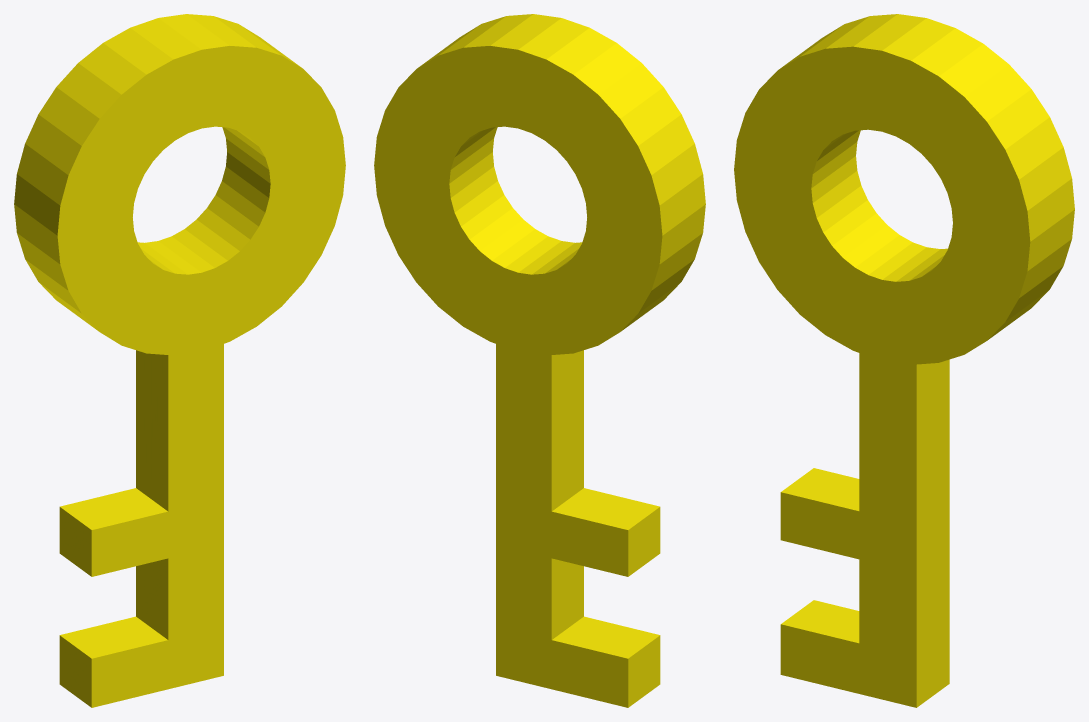
The model's file is key.obj.
The picture shows the model from 3 angles, left to right: view 1: azimuth 30°, elevation 25°; view 2: azimuth 150°, elevation 25°; view 3: azimuth 330°, elevation 25°; orthographic projection. The views are drawn at different scales.
Parts seen in each view (by area): view 1: 立方体; view 2: 立方体; view 3: 立方体.
Boxes of the visible parts, x1,y1,x2,y2 form: 立方体: (14,14,345,707); 立方体: (374,14,705,707); 立方体: (734,14,1074,707).
Size of the model in its own units: 0.5945 by 1.25 by 0.1552.
1 material, 1 textured.
